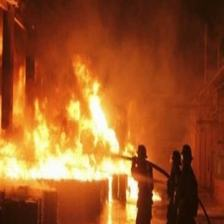fire: (2, 54, 133, 181), (103, 162, 140, 206), (154, 188, 163, 205)
